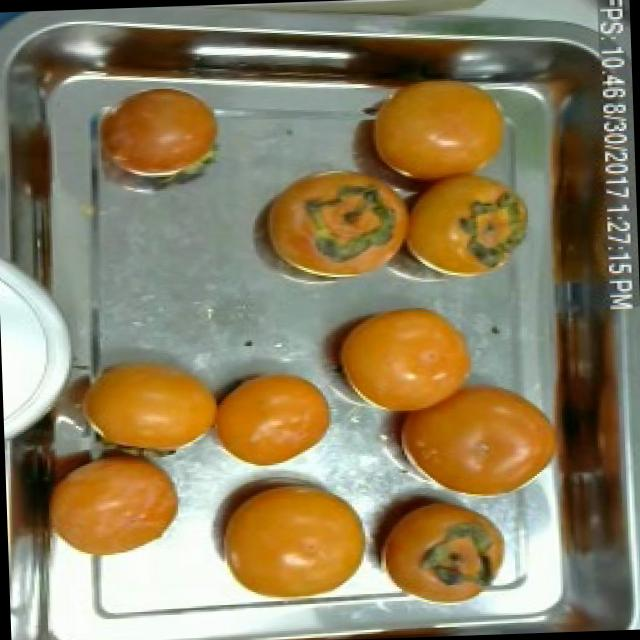Fruit: (373, 365, 572, 506), (198, 460, 384, 606), (334, 70, 529, 206), (319, 288, 490, 432), (38, 337, 232, 462), (242, 158, 418, 288), (382, 162, 550, 294), (34, 441, 194, 572), (356, 484, 518, 606), (190, 354, 346, 478), (85, 81, 234, 194)
